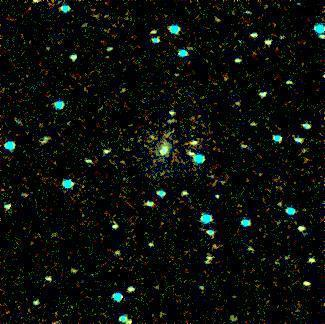star: (136, 121, 166, 151)
